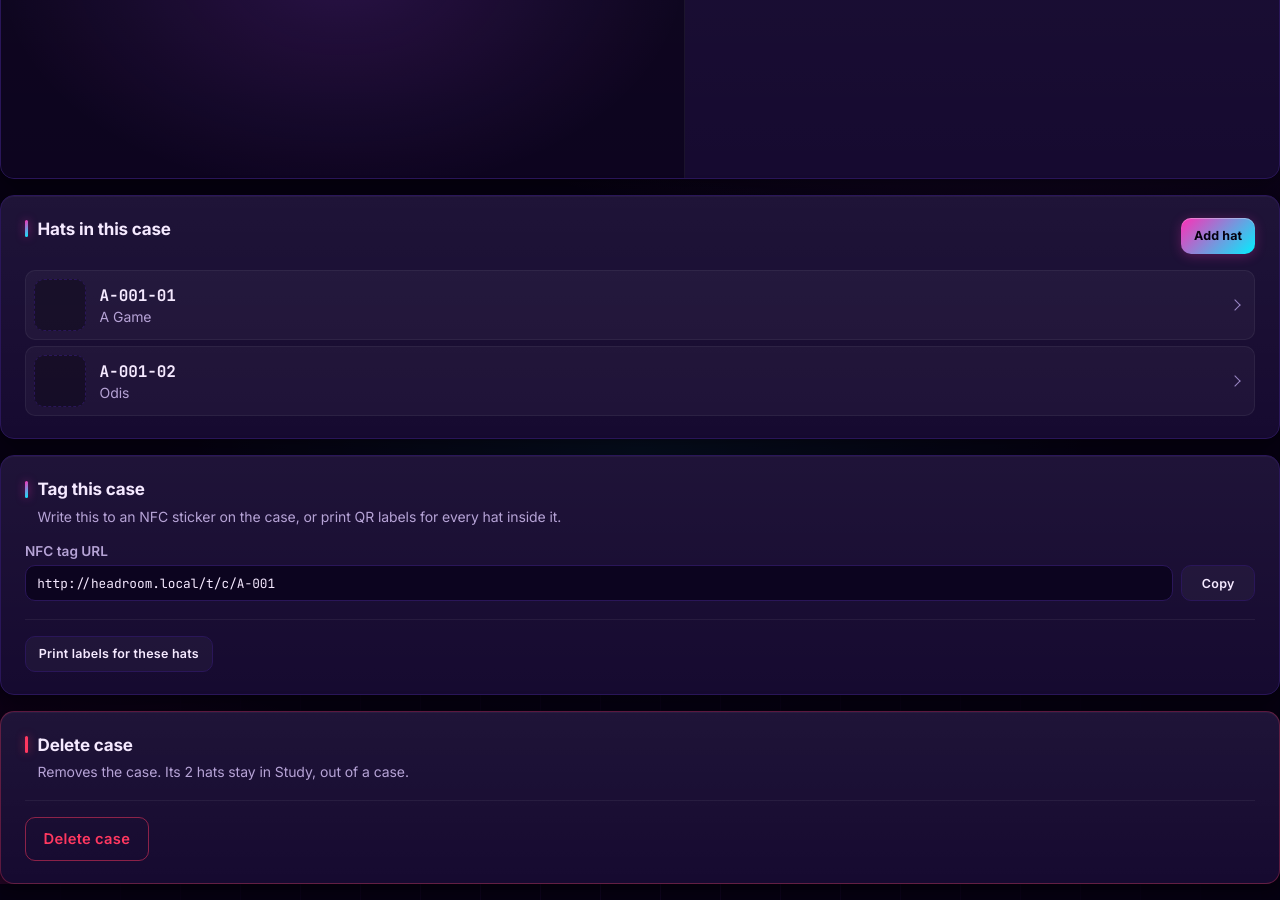
Scenario: CaseDetailPage — delete › deletes once confirmed, then returns to the list with a toast
(page scrolled)
Click the button "Delete case".
click(87, 839)  # box [25,817,149,861]
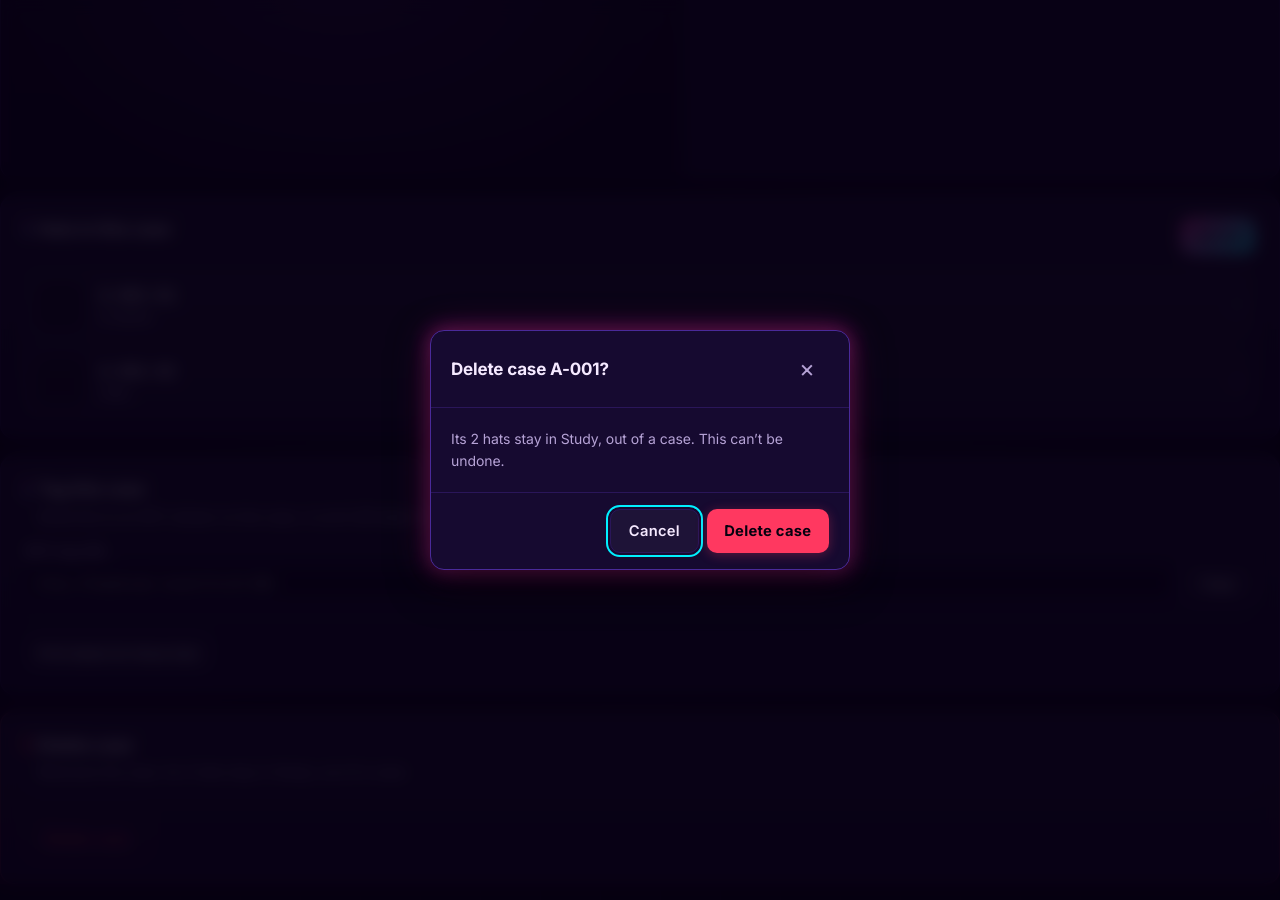
Click the button "Delete case".
click(768, 531)  # box [706,509,829,553]
(page scrolled)
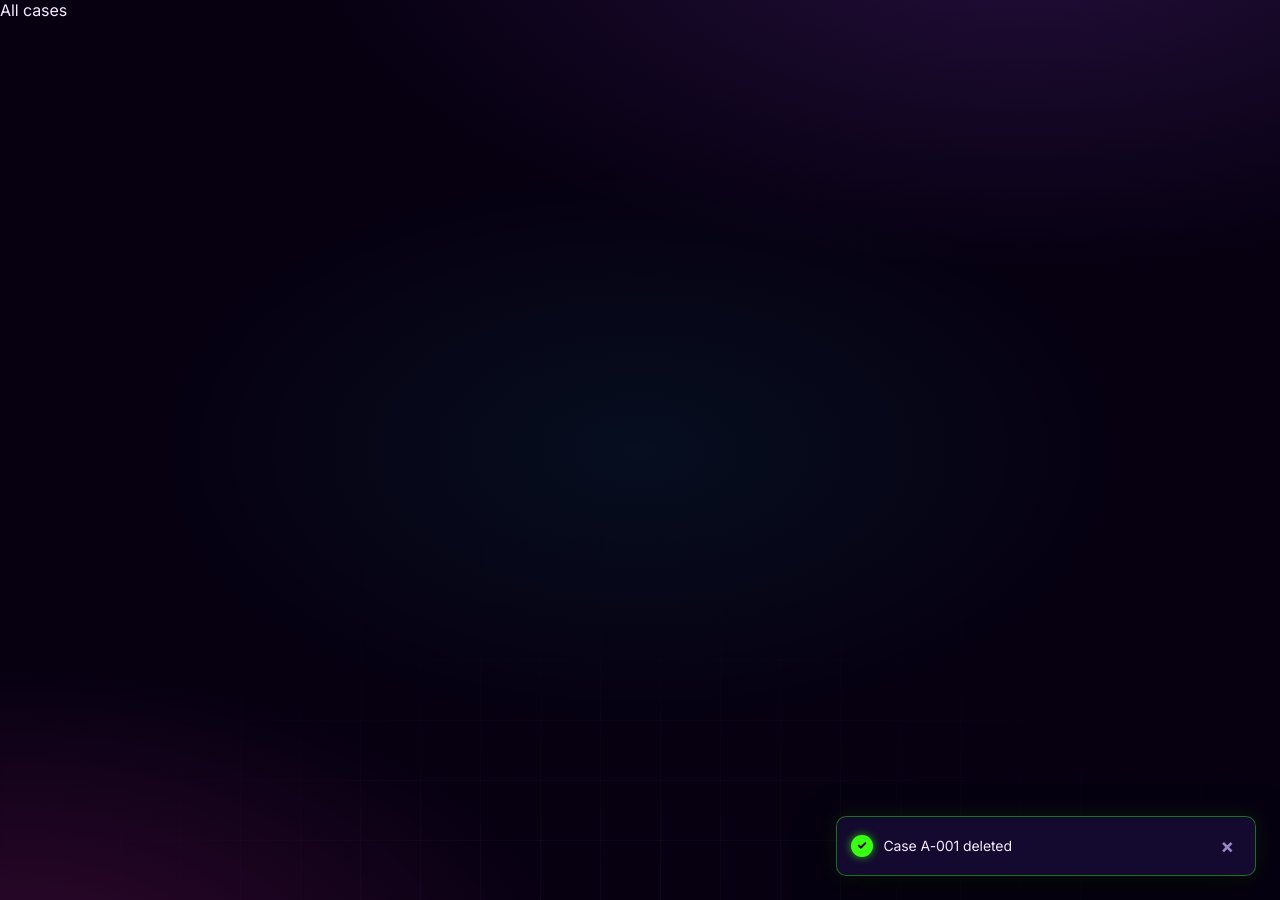
Check: the text "All cases" is shown, box [0,0,67,20]
Check: the text "Case A-001 deleted" is shown, box [883,837,1012,854]
